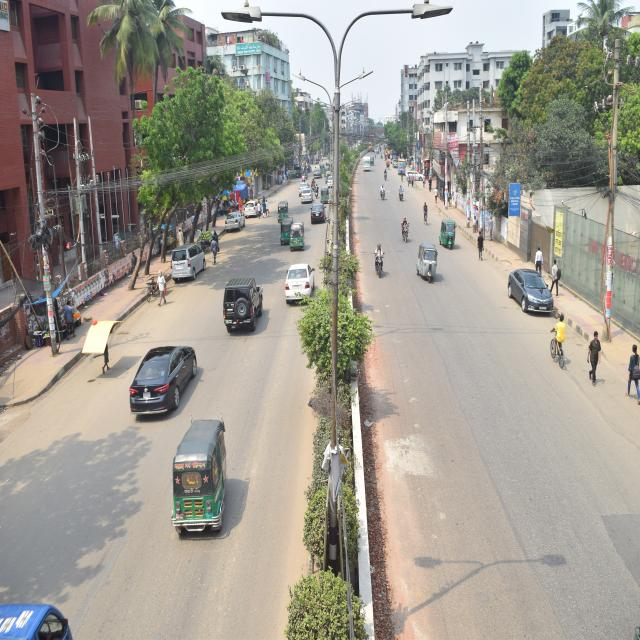car: (134, 342, 198, 424), (504, 264, 552, 322), (282, 258, 312, 302), (227, 296, 265, 326), (224, 212, 244, 233), (304, 208, 332, 222), (309, 203, 325, 226), (245, 196, 258, 220), (297, 188, 317, 202), (326, 174, 334, 191)
microbus: (168, 240, 213, 295)
motorbike: (396, 213, 414, 246), (371, 248, 388, 280), (376, 182, 390, 207), (398, 182, 406, 212), (380, 166, 390, 183)
